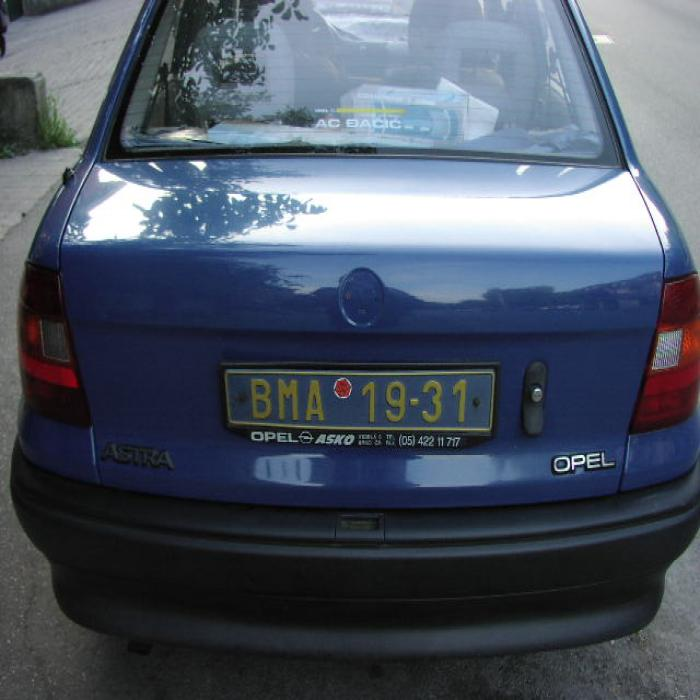number_plate: (228, 370, 494, 429)
